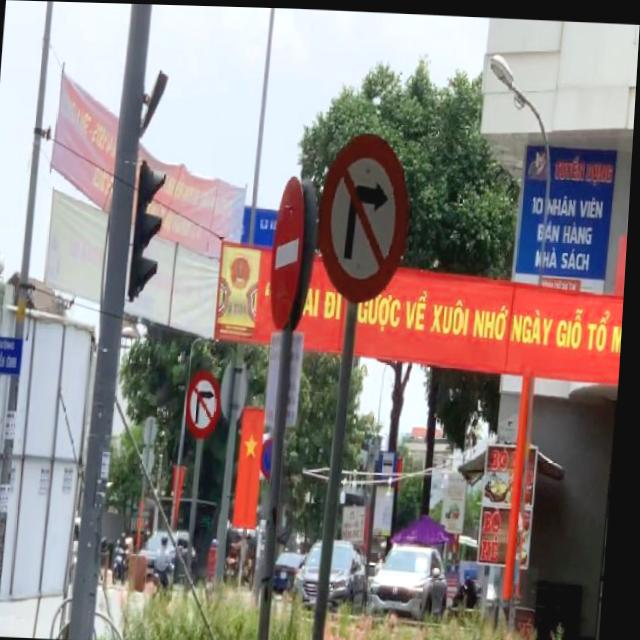Cam di nguoc chieu: (270, 171, 313, 329)
Cam re phai: (315, 126, 419, 305), (188, 368, 229, 436)
